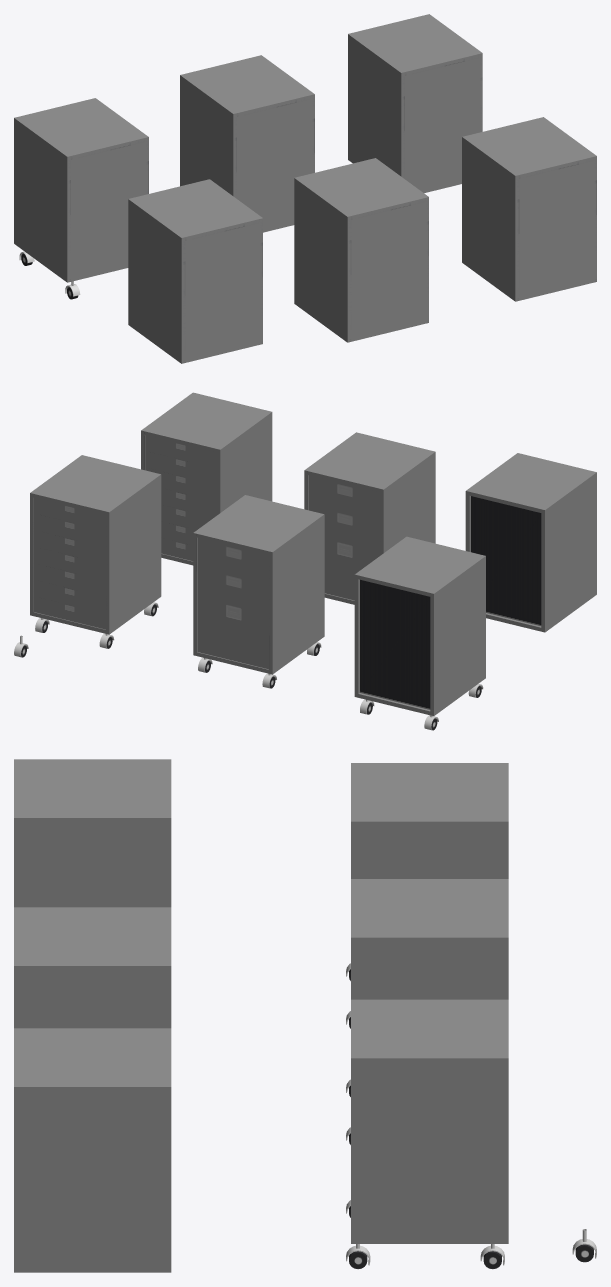
File: office_filing_cabinets_master.FBX
3 views of the same model, one above another, from view 1: azimuth 30°, elevation 25°; view 2: azimuth 150°, elevation 25°; view 3: azimuth 270°, elevation 25° (orthographic). The views are drawn at different scales.
Parts seen in each view (by area): view 1: office_hutch_c_01, office_hutch_b_01, office_hutch_a_01, office_hutch_c_01_caster, office_hutch_a_01_caster, office_hutch_b_01_caster; view 2: office_hutch_c_01_caster, office_hutch_a_01_caster, office_hutch_b_01_caster, office_hutch_c_01, office_hutch_b_01, office_hutch_a_01; view 3: office_hutch_a_01_caster, office_hutch_a_01, office_hutch_c_01, office_hutch_b_01, office_hutch_b_01_caster, office_hutch_c_01_caster.
Part boxes in pixels (<box>): office_hutch_c_01: <box>128,179,262,363</box>; office_hutch_b_01: <box>294,158,428,342</box>; office_hutch_a_01: <box>462,117,596,301</box>; office_hutch_c_01_caster: <box>14,98,148,299</box>; office_hutch_a_01_caster: <box>348,14,482,193</box>; office_hutch_b_01_caster: <box>180,55,314,232</box>; office_hutch_c_01_caster: <box>354,536,485,730</box>; office_hutch_a_01_caster: <box>30,455,161,648</box>; office_hutch_b_01_caster: <box>193,495,324,688</box>; office_hutch_c_01: <box>465,453,596,632</box>; office_hutch_b_01: <box>304,432,435,604</box>; office_hutch_a_01: <box>141,392,272,565</box>; office_hutch_a_01_caster: <box>346,999,508,1269</box>; office_hutch_a_01: <box>14,1028,171,1272</box>; office_hutch_c_01: <box>14,759,171,907</box>; office_hutch_b_01: <box>14,907,171,1028</box>; office_hutch_b_01_caster: <box>346,879,508,1144</box>; office_hutch_c_01_caster: <box>346,763,508,1028</box>.
Size of the model in its own units: 2.56 by 0.8689 by 2.11.
